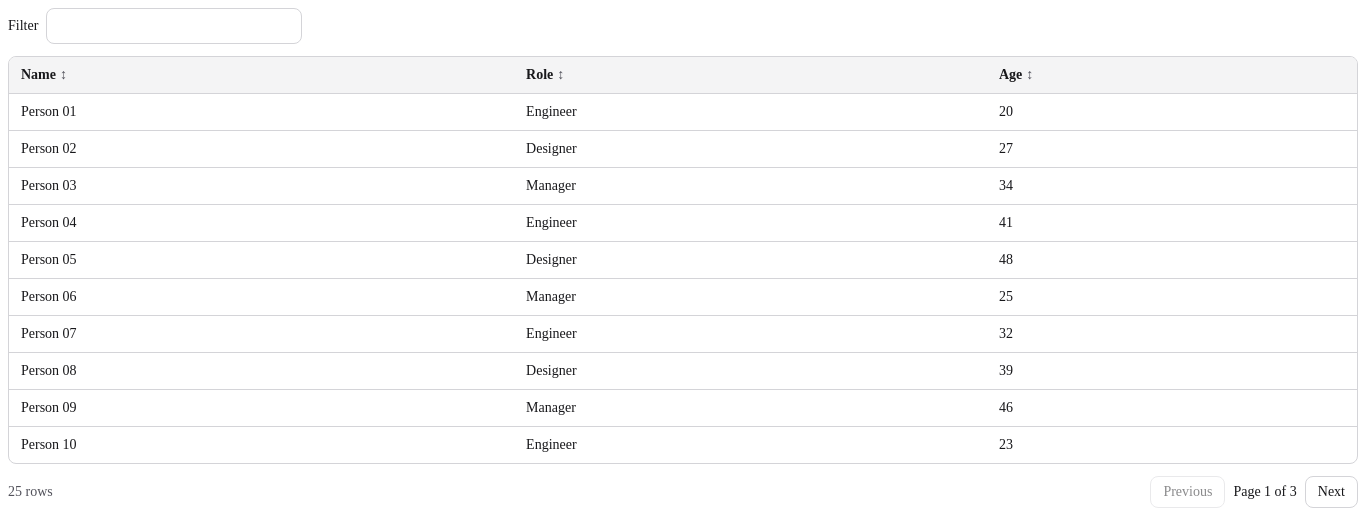
Test case: DataTable › filter, pagination and an empty state
The image size is (1366, 529).
Check: the text "Page 1 of 3" is shown, box left=1233, top=482, right=1297, bottom=502
Click the button "Next" at (1331, 492), box left=1305, top=476, right=1358, bottom=508
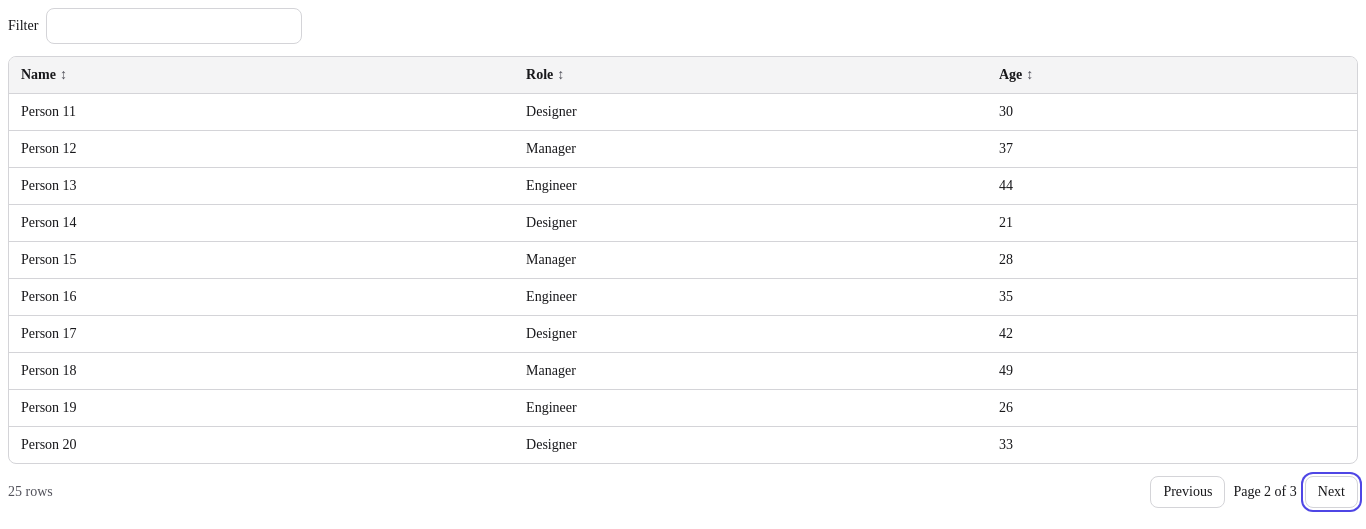
Check: the text "Page 2 of 3" is shown, box left=1233, top=482, right=1297, bottom=502
Check: the cell "Person 11" is shown, box left=9, top=94, right=514, bottom=130
Type "designer" into the search field labelled "Filter" at (174, 26), box left=46, top=8, right=302, bottom=44
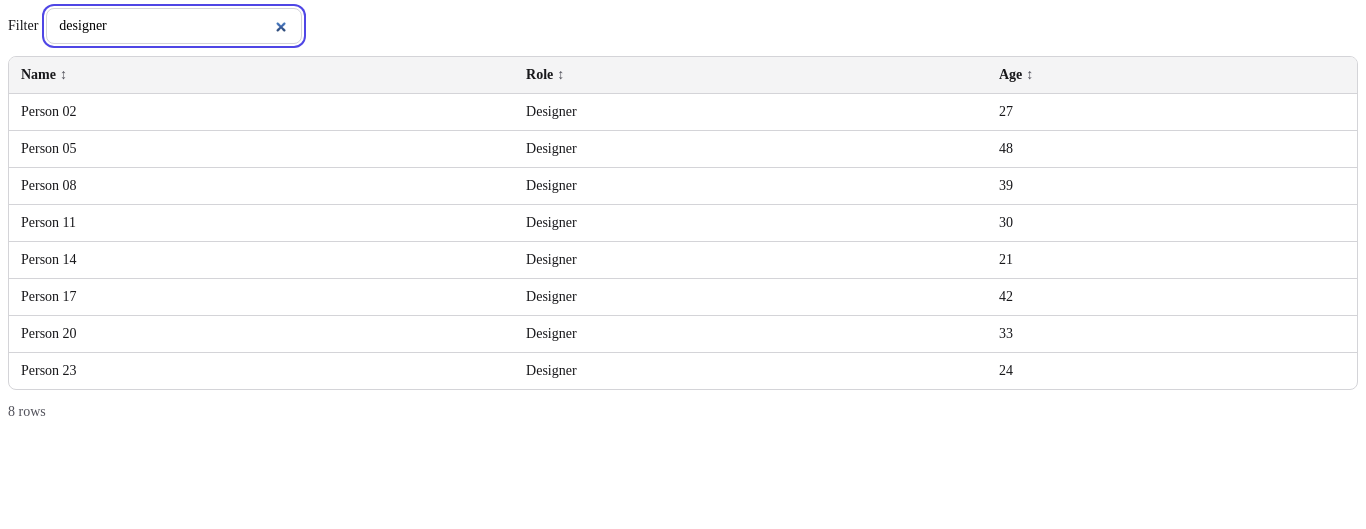
Check: the message reads "8 rows", box left=8, top=402, right=46, bottom=422
Check: the navigation bar is gone
Type "zzz" into the search field labelled "Filter" at (174, 26), box left=46, top=8, right=302, bottom=44
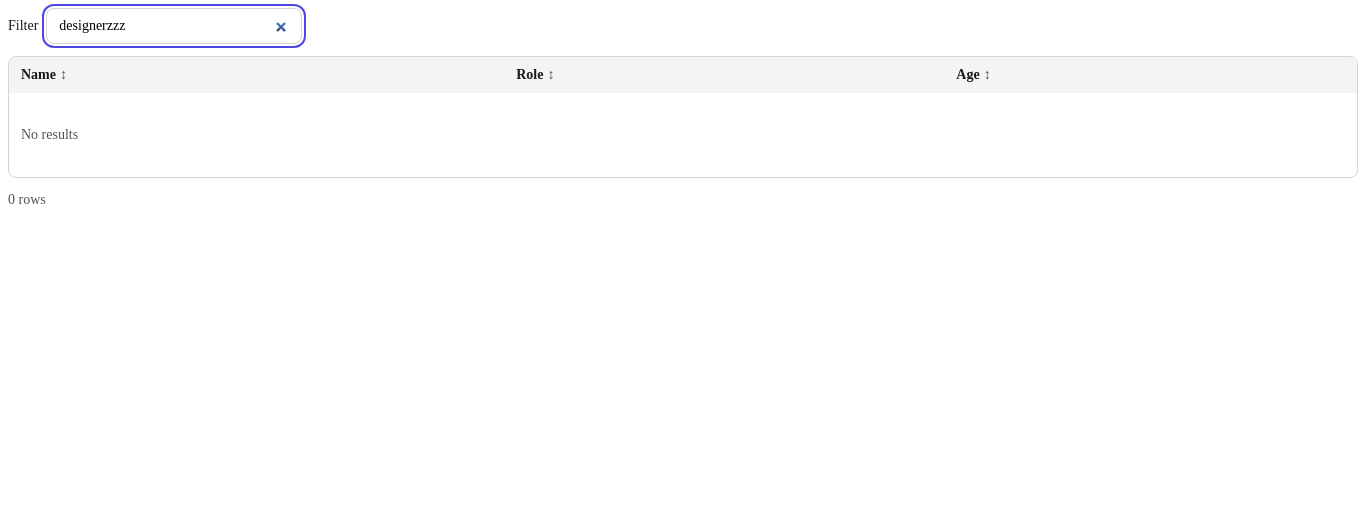
Check: the text "No results" is shown, box left=9, top=93, right=1357, bottom=177
